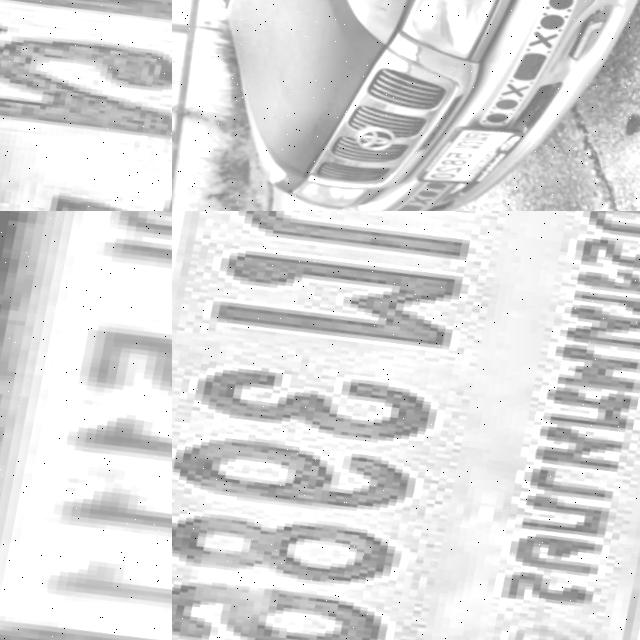license-plate: (172, 211, 640, 640), (0, 211, 172, 640), (0, 0, 172, 211), (416, 116, 547, 210)
